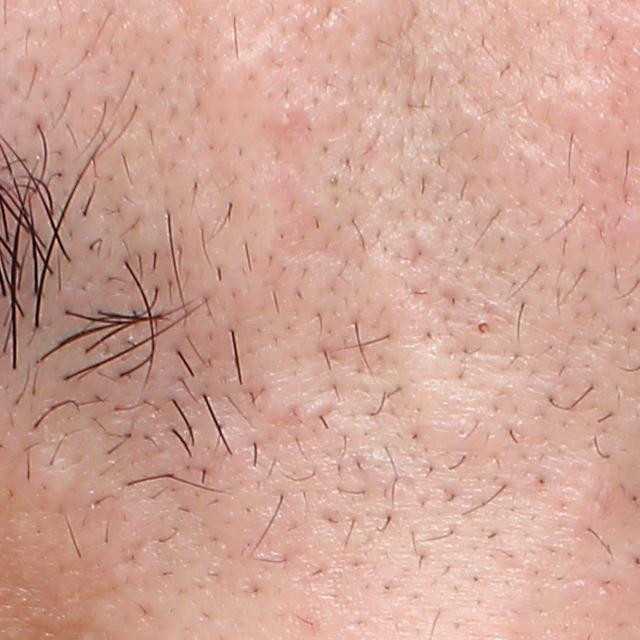comedo: (473, 314, 497, 339), (323, 169, 341, 189)
hypertrophic_scar: (371, 245, 476, 451), (19, 445, 81, 510)
